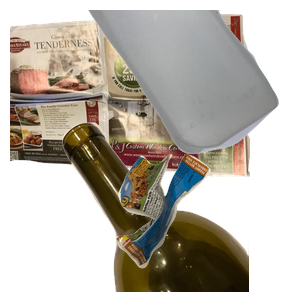glass: (60, 120, 300, 300)
paper: (10, 11, 250, 180)
plastic: (84, 10, 300, 157)
trash: (114, 151, 300, 300)
